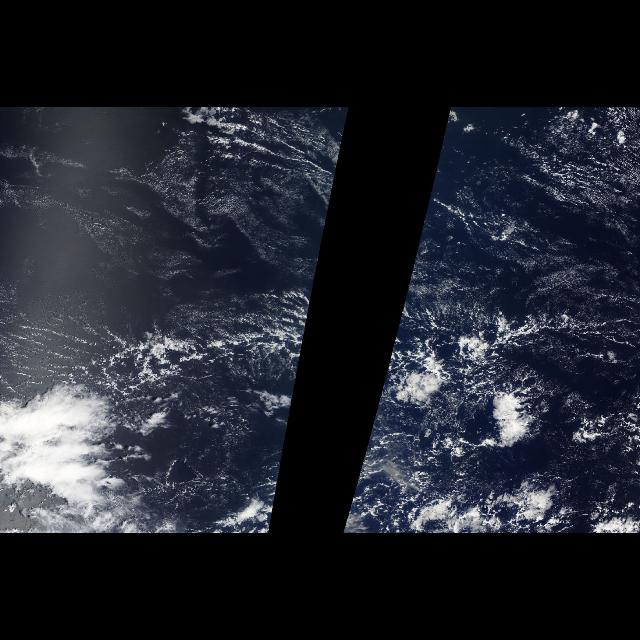Sugar: (2, 110, 310, 310), (402, 108, 640, 304)
